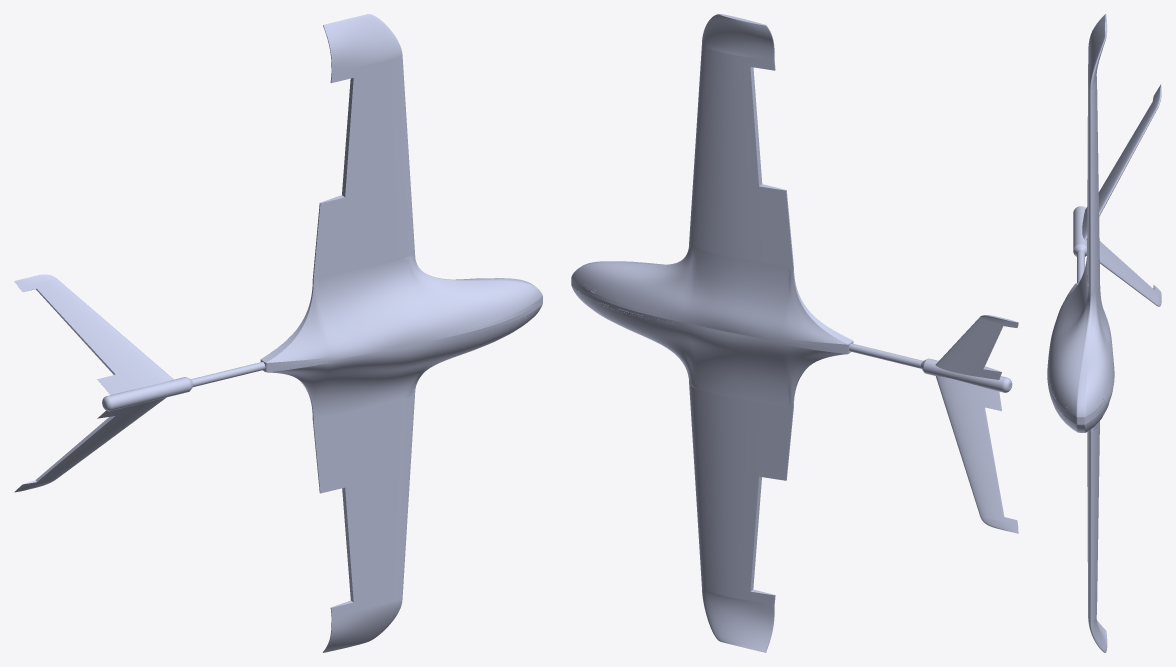
The model's file is body.dae.
3 views of the same model, side by side, from view 1: azimuth 30°, elevation 25°; view 2: azimuth 150°, elevation 25°; view 3: azimuth 270°, elevation 25° (orthographic).
Visible parts, largest first — view 1: model_ctrl_surf; view 2: model_ctrl_surf; view 3: model_ctrl_surf.
Boxes of the visible parts, box(x1,y1,x2,y2) form: model_ctrl_surf: box(14, 14, 542, 652); model_ctrl_surf: box(571, 14, 1018, 652); model_ctrl_surf: box(1047, 14, 1161, 652).
Size of the model in its own units: 1085 by 225 by 1340.
